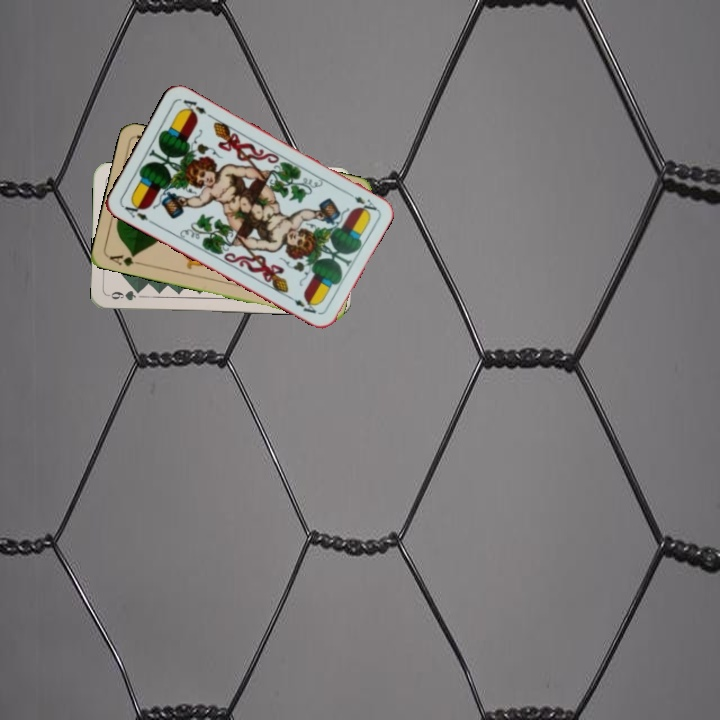EA: (119, 199, 157, 227), (342, 187, 380, 214)
G9: (105, 287, 138, 303)
GA: (105, 250, 146, 269)
